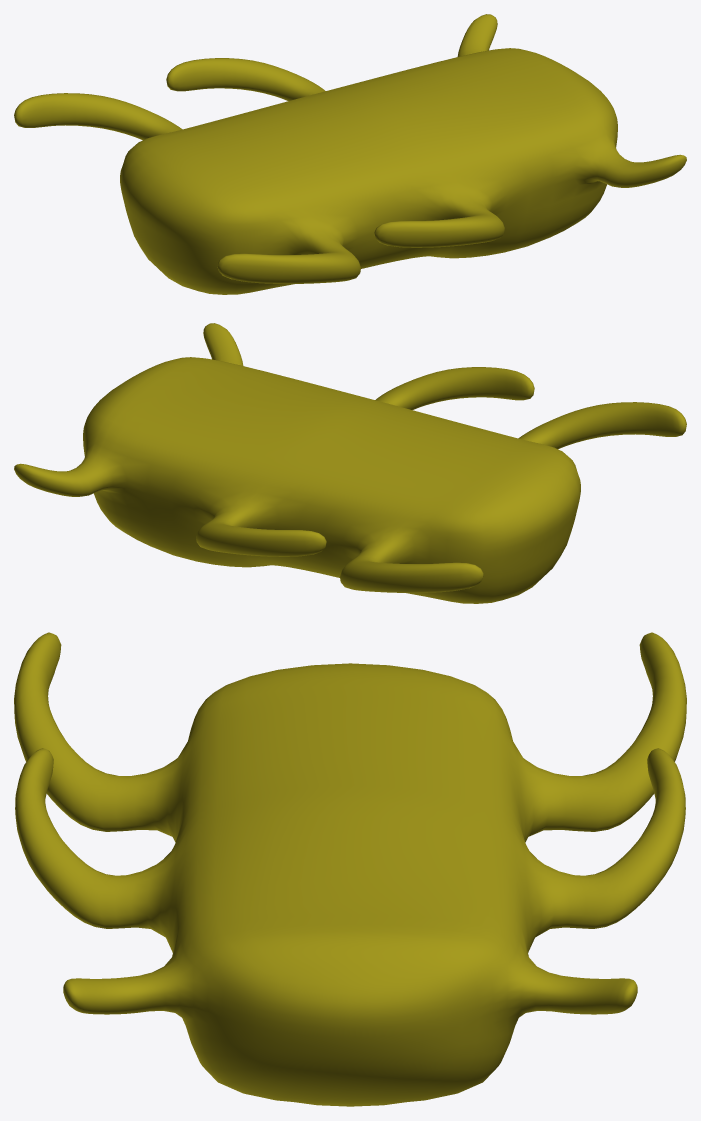
File: electroroach.fbx
3 renders of one model, top to bottom at view 1: azimuth 30°, elevation 25°; view 2: azimuth 150°, elevation 25°; view 3: azimuth 270°, elevation 25°, orthographic. The views are drawn at different scales.
Parts seen in each view (by area): view 1: pCube3; view 2: pCube3; view 3: pCube3.
Part boxes in pixels (x1=…): pCube3: x1=14, y1=14, x2=686, y2=294; pCube3: x1=14, y1=323, x2=686, y2=603; pCube3: x1=14, y1=632, x2=686, y2=1106.
Size of the model in its own units: 2.35 by 0.7074 by 1.94.
